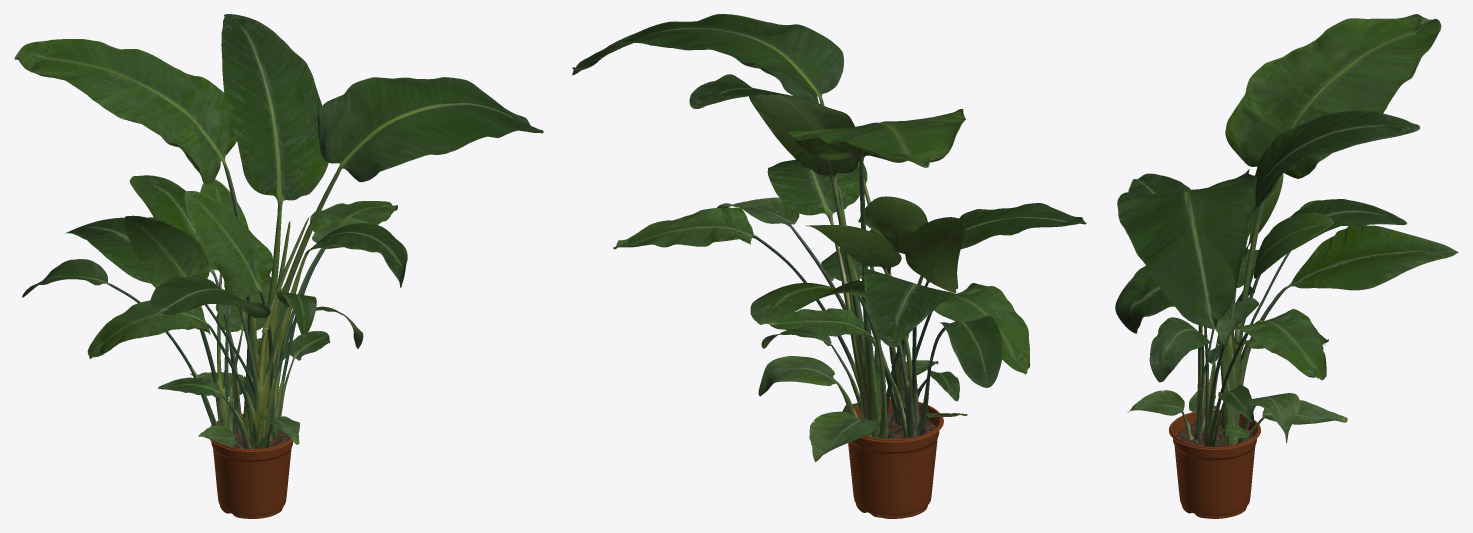
The model's file is strelitzia_roslina_doniczkowa_20466253.glb.
The picture shows the model from 3 angles, left to right: view 1: azimuth 30°, elevation 25°; view 2: azimuth 150°, elevation 25°; view 3: azimuth 270°, elevation 25°; orthographic projection. The views are drawn at different scales.
Parts seen in each view (by area): view 1: strelitzia_roslina_doniczkowa_20466253; view 2: strelitzia_roslina_doniczkowa_20466253; view 3: strelitzia_roslina_doniczkowa_20466253.
Part boxes in pixels (<box>): strelitzia_roslina_doniczkowa_20466253: <box>14,14,543,518</box>; strelitzia_roslina_doniczkowa_20466253: <box>572,14,1086,518</box>; strelitzia_roslina_doniczkowa_20466253: <box>1115,14,1458,518</box>.
Bounding box in the file's own units: 1.85 × 1.64 × 1.2.
Materials: 1 (1 with a texture image).
